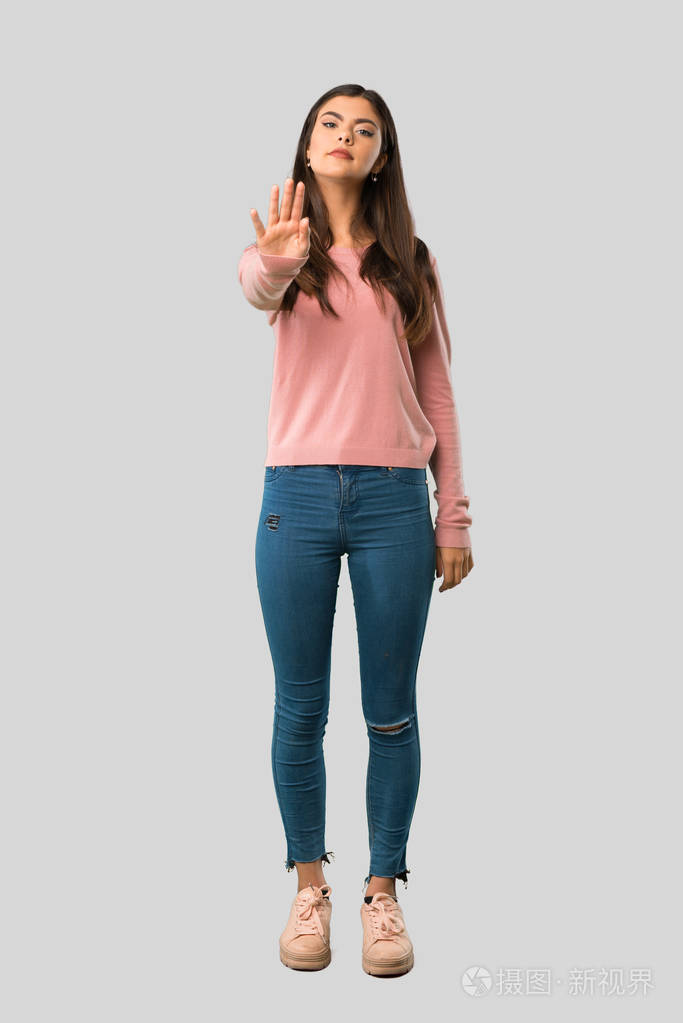up: (222, 70, 478, 989)
